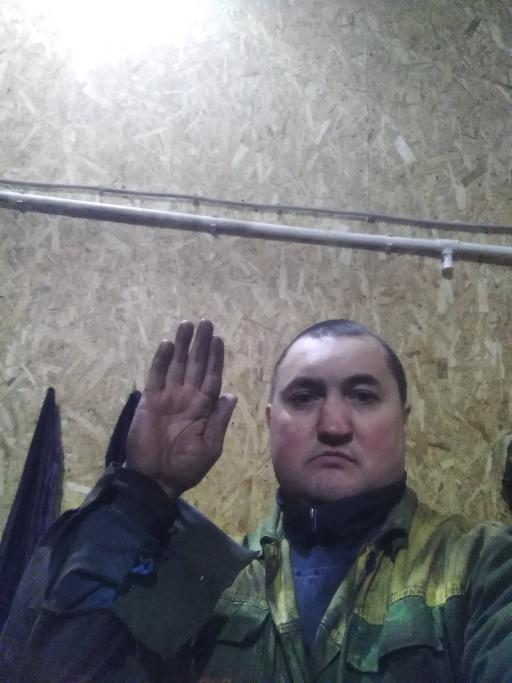stop: (117, 310, 240, 493)
